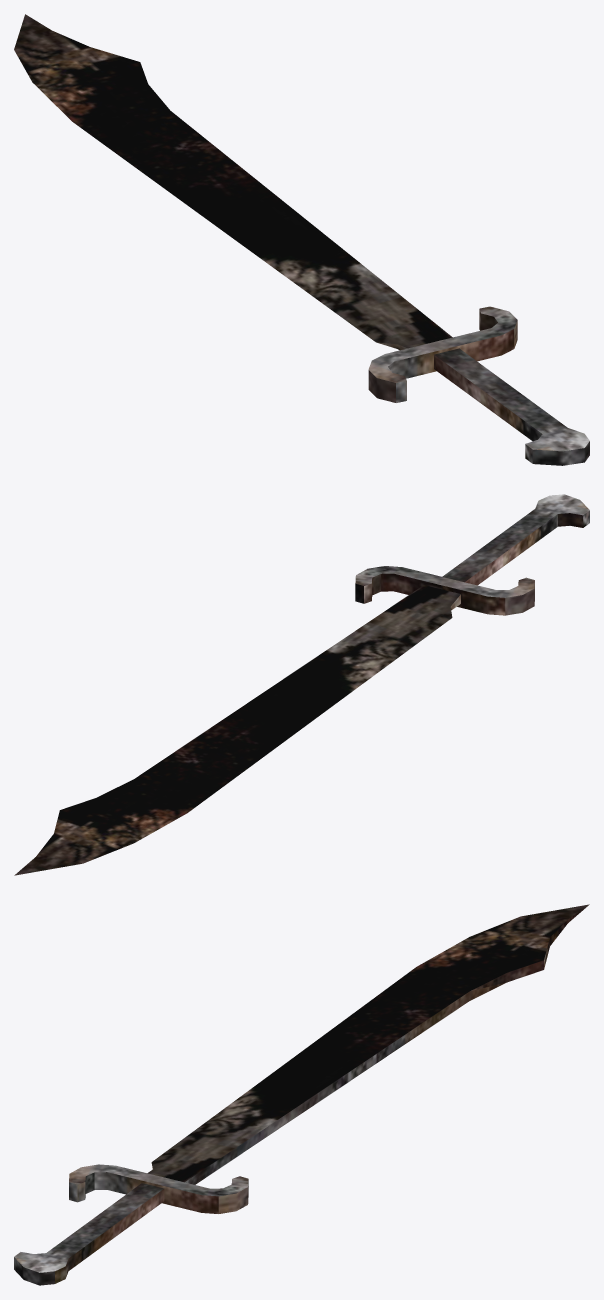
3 views of the same model, one above another, from view 1: azimuth 30°, elevation 25°; view 2: azimuth 150°, elevation 25°; view 3: azimuth 330°, elevation 25° (orthographic). The views are drawn at different scales.
Parts seen in each view (by area): view 1: mesh_0; view 2: mesh_0; view 3: mesh_0.
Boxes of the visible parts, bbox=[...] form: mesh_0: bbox=[14, 14, 589, 465]; mesh_0: bbox=[14, 494, 589, 875]; mesh_0: bbox=[14, 904, 589, 1285].
Bounding box in the file's own units: 6.36 × 0.7316 × 38.91.
1 material, 1 textured.
